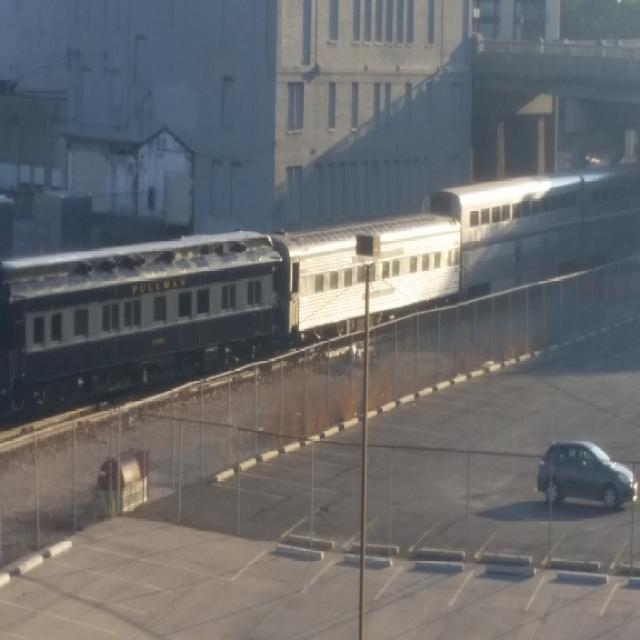car: (536, 434, 630, 514)
